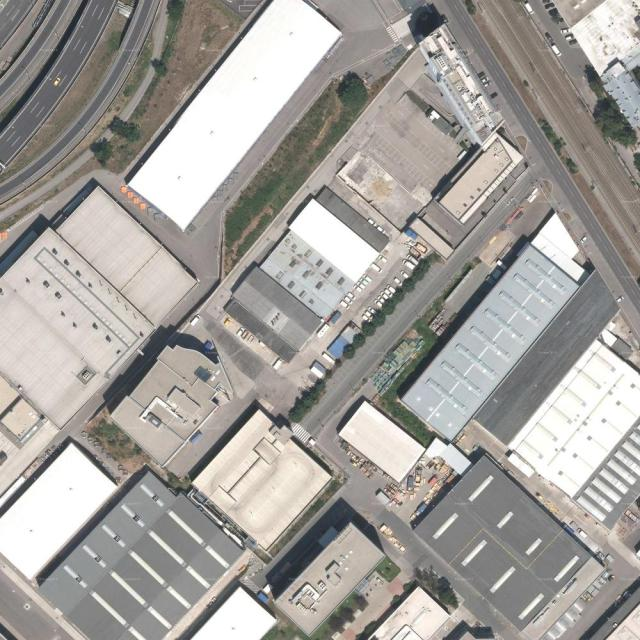building: (124, 0, 344, 231), (399, 242, 582, 443), (36, 465, 245, 640), (413, 453, 593, 632), (472, 270, 629, 446), (191, 405, 337, 552), (106, 330, 243, 470), (0, 442, 119, 581), (273, 521, 386, 637), (411, 23, 509, 148), (55, 186, 163, 292), (220, 263, 324, 363), (260, 229, 356, 321), (288, 198, 380, 283), (337, 399, 427, 484), (438, 136, 523, 225), (119, 247, 200, 328), (314, 184, 392, 252), (190, 586, 278, 640), (368, 586, 451, 640), (596, 60, 640, 130), (0, 395, 47, 446), (614, 449, 640, 476), (324, 559, 342, 587), (456, 149, 468, 161), (607, 461, 618, 474)
greenland: (197, 65, 378, 276), (337, 249, 443, 362), (376, 387, 436, 452), (409, 559, 467, 614), (283, 374, 332, 426)
metalled_road: (298, 163, 551, 430), (197, 0, 405, 170), (453, 418, 616, 559)
